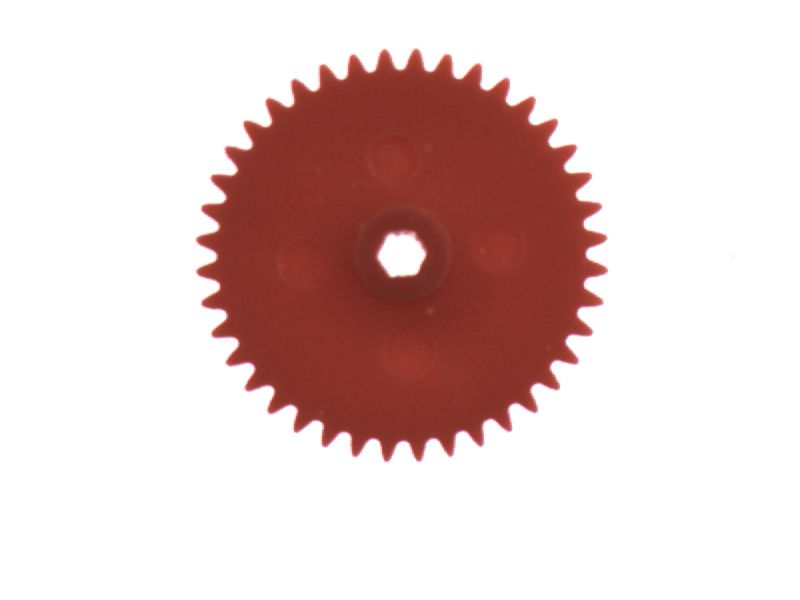good_product: (181, 43, 618, 472)
